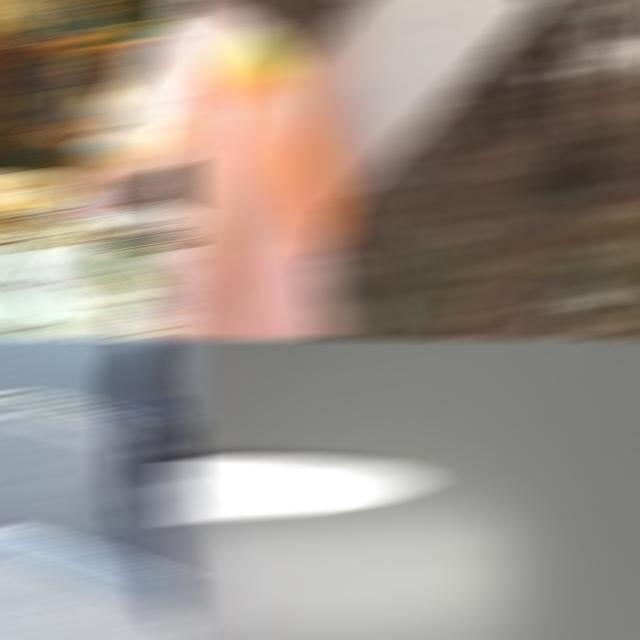Knife: (218, 2, 553, 252), (168, 457, 430, 521)
Knife_Handle: (138, 418, 172, 441)
